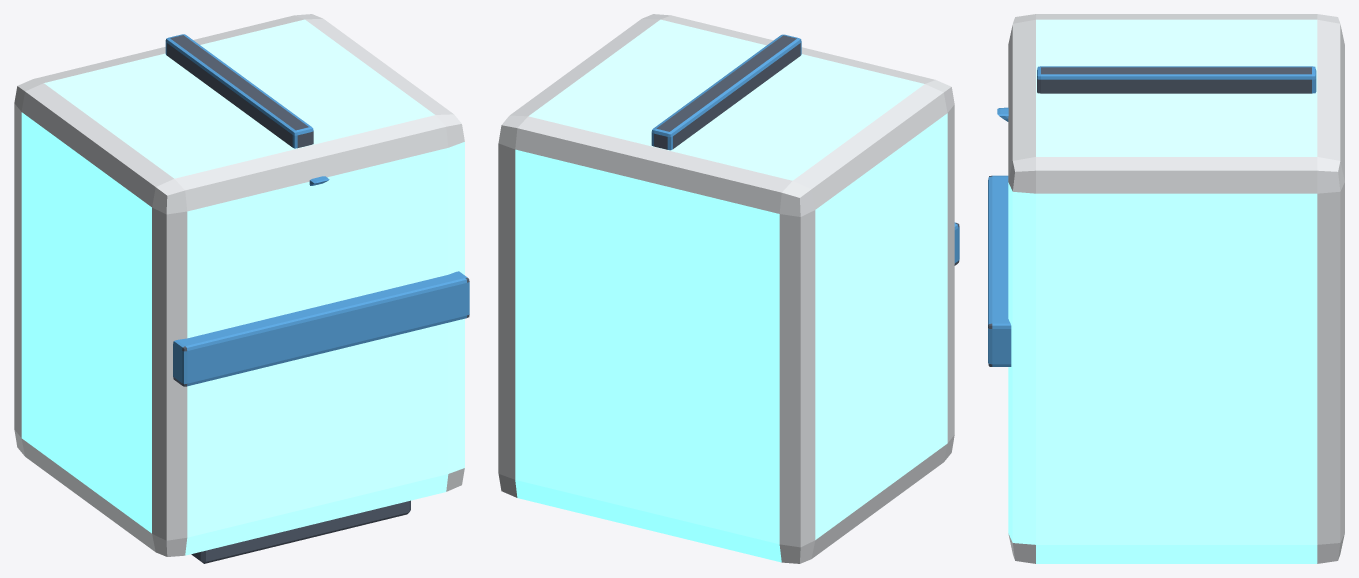
Rendered from helmet__bold.glb.
3 renders of one model, left to right at view 1: azimuth 30°, elevation 25°; view 2: azimuth 150°, elevation 25°; view 3: azimuth 270°, elevation 25°, orthographic. The views are drawn at different scales.
Parts seen in each view (by area): view 1: armor_helmet__bold_v001; view 2: armor_helmet__bold_v001; view 3: armor_helmet__bold_v001.
Boxes of the visible parts, bbox=[...] form: armor_helmet__bold_v001: bbox=[14, 14, 469, 563]; armor_helmet__bold_v001: bbox=[498, 14, 959, 563]; armor_helmet__bold_v001: bbox=[988, 14, 1344, 563].
Bounding box in the file's own units: 0.2742 × 0.3496 × 0.2575.
